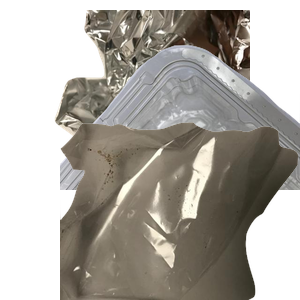glass: (67, 120, 282, 300)
metal: (52, 10, 292, 190)
plastic: (60, 43, 300, 223)
trash: (60, 120, 300, 300)
